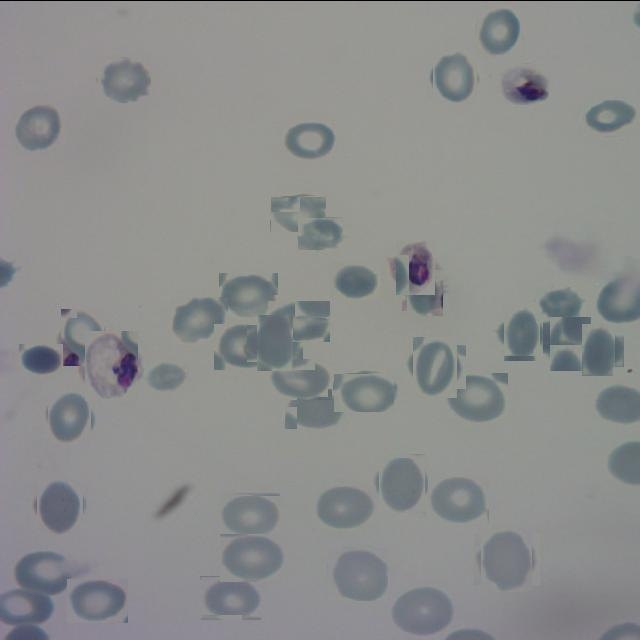gametocyte: (80, 334, 142, 396)
leukocyte: (390, 585, 456, 637), (478, 529, 536, 588), (327, 546, 388, 600), (443, 372, 508, 422), (220, 533, 286, 581), (13, 548, 78, 596), (428, 475, 489, 523), (313, 486, 376, 532), (218, 491, 281, 536), (408, 340, 462, 392), (170, 296, 228, 344), (218, 272, 278, 318), (267, 357, 332, 399), (34, 479, 86, 531), (376, 456, 428, 508), (200, 575, 261, 619), (67, 578, 128, 622), (214, 323, 272, 369), (267, 299, 330, 341), (14, 100, 64, 152), (57, 312, 108, 362), (45, 392, 95, 442), (430, 50, 480, 100), (474, 6, 524, 56), (97, 56, 151, 102), (280, 118, 338, 160), (333, 372, 394, 411), (285, 388, 344, 428), (546, 319, 594, 367), (252, 319, 298, 366), (328, 260, 381, 300), (499, 311, 544, 356), (270, 195, 326, 231), (584, 98, 638, 135), (576, 328, 620, 371), (536, 286, 586, 322), (405, 272, 446, 312), (297, 216, 343, 249), (19, 343, 63, 374), (144, 361, 188, 391)
schizont: (392, 243, 438, 290), (500, 62, 549, 104)
